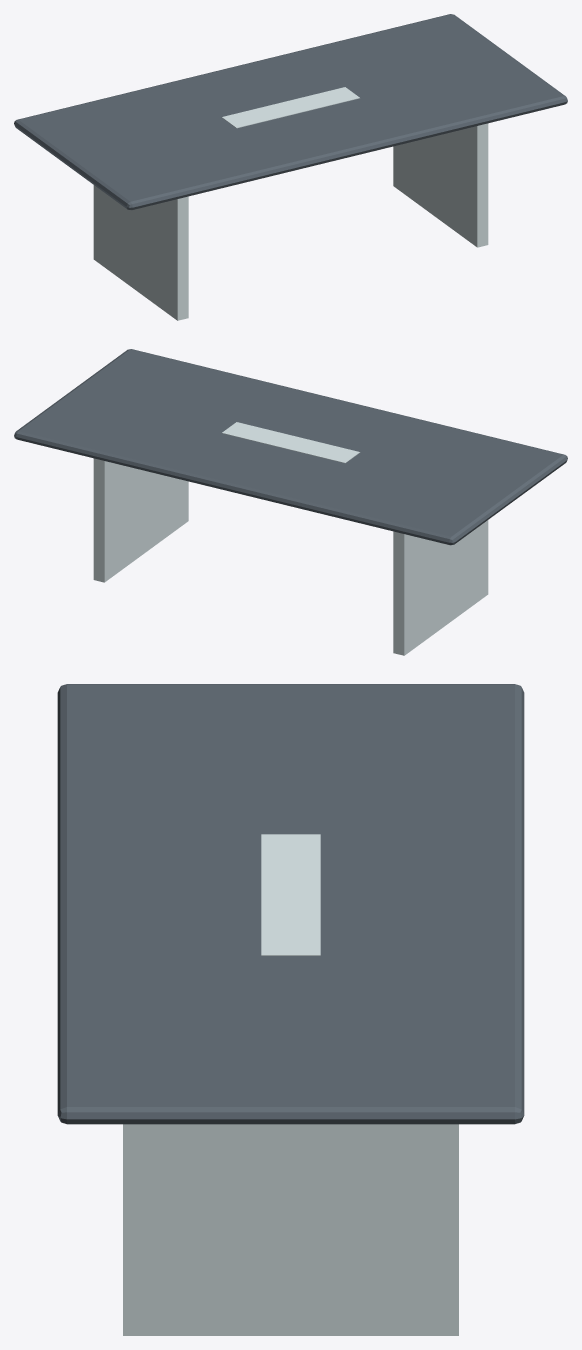
Rendered from ai.meeting-table.glb.
3 renders of one model, top to bottom at view 1: azimuth 30°, elevation 25°; view 2: azimuth 150°, elevation 25°; view 3: azimuth 270°, elevation 25°, orthographic. The views are drawn at different scales.
Visible parts, largest first — view 1: Hero_Asset; view 2: Hero_Asset; view 3: Hero_Asset.
Boxes of the visible parts, x1,y1,x2,y2 form: Hero_Asset: [14, 14, 567, 320]; Hero_Asset: [14, 349, 567, 655]; Hero_Asset: [57, 684, 524, 1335].
Bounding box in the file's own units: 2.39 × 0.75 × 1.1.
